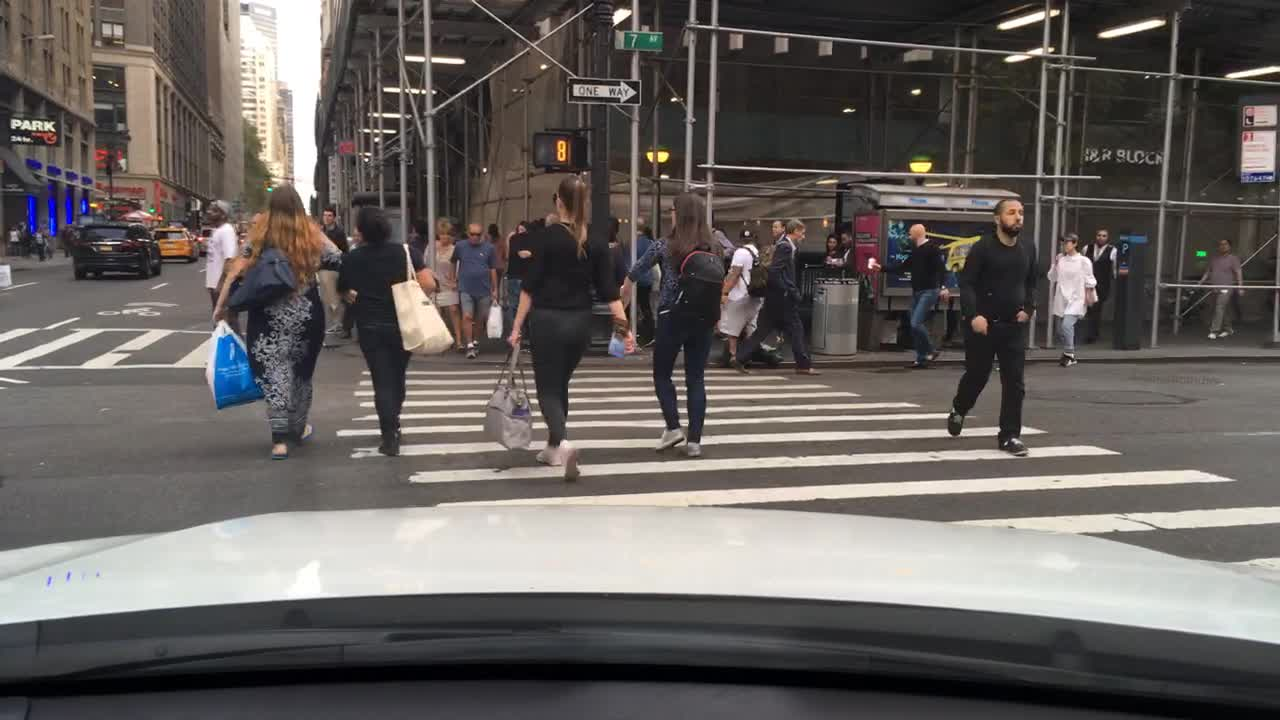car: (69, 218, 160, 285), (152, 224, 201, 265), (195, 226, 216, 253)
person: (482, 170, 638, 482), (201, 180, 357, 462), (334, 206, 459, 455), (617, 192, 727, 457), (943, 197, 1038, 455), (730, 218, 823, 380), (867, 219, 955, 371), (445, 221, 503, 361), (715, 226, 769, 368), (1043, 228, 1097, 368), (199, 196, 251, 339), (417, 216, 467, 356), (325, 206, 373, 347), (1191, 236, 1245, 339), (757, 212, 793, 354), (1076, 226, 1117, 346), (314, 204, 346, 312), (482, 219, 509, 297), (705, 228, 739, 275), (827, 221, 855, 273), (816, 233, 843, 275), (30, 223, 49, 260), (40, 219, 55, 260), (6, 223, 22, 253), (15, 218, 28, 253)
traffic light: (530, 128, 584, 170), (261, 177, 273, 194), (147, 201, 155, 214)
traffic sign: (1237, 104, 1275, 184), (565, 77, 641, 104), (7, 118, 62, 145), (614, 30, 663, 52), (336, 140, 356, 155), (1117, 241, 1130, 256)
